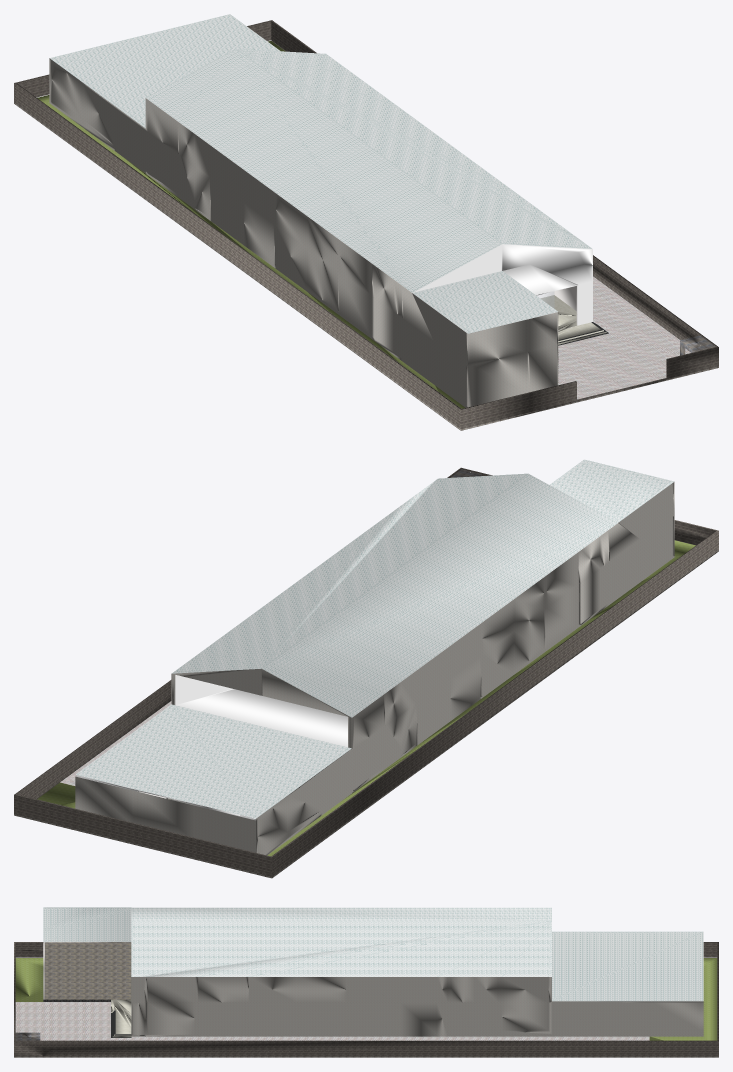
Rendered from Plot 200-27- Complete.glb.
3 renders of one model, top to bottom at view 1: azimuth 30°, elevation 25°; view 2: azimuth 150°, elevation 25°; view 3: azimuth 270°, elevation 25°, orthographic. The views are drawn at different scales.
Visible parts, largest first — view 1: Model; view 2: Model; view 3: Model.
Part boxes in pixels (x1,y1,x2,y2): Model: (14,14,718,430); Model: (14,459,718,878); Model: (14,907,718,1057).
Bounding box in the file's own units: 100 × 38.5 × 300.
19 materials, 14 textured.
